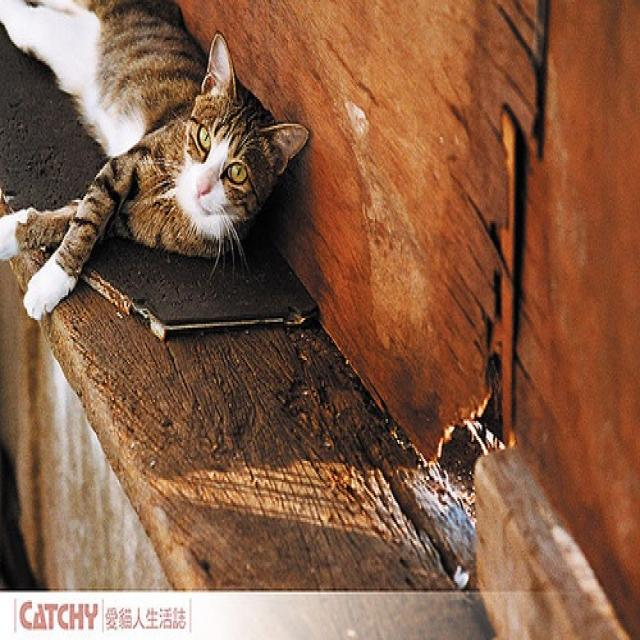cat: (4, 4, 311, 324)
